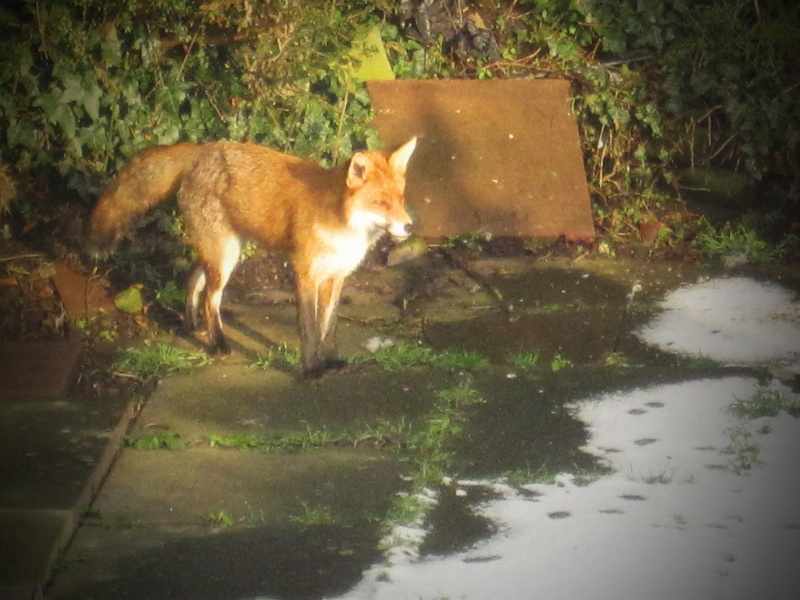fox: (84, 122, 431, 383)
